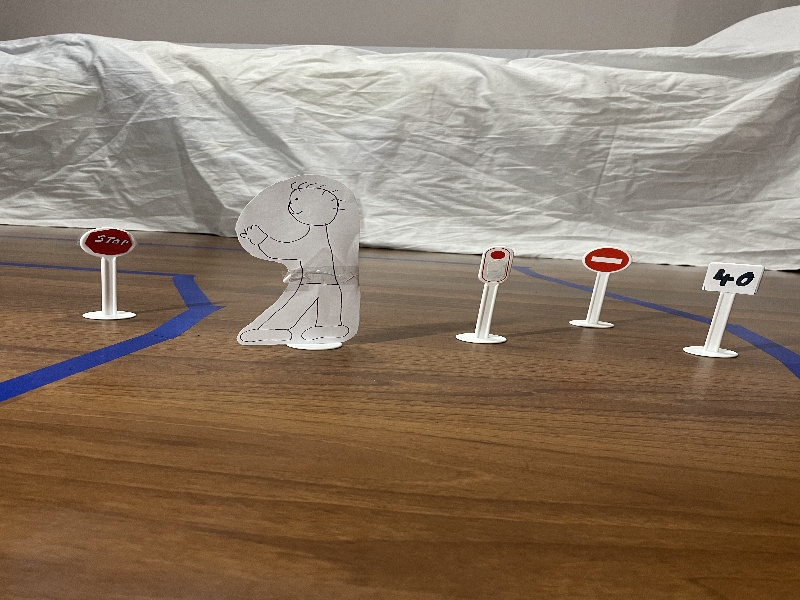interzis: (582, 240, 637, 287)
persoana: (228, 167, 385, 365)
semafor_rosu: (473, 240, 517, 292)
stop: (75, 216, 143, 258)
viteza_limita_40: (698, 255, 774, 307)
